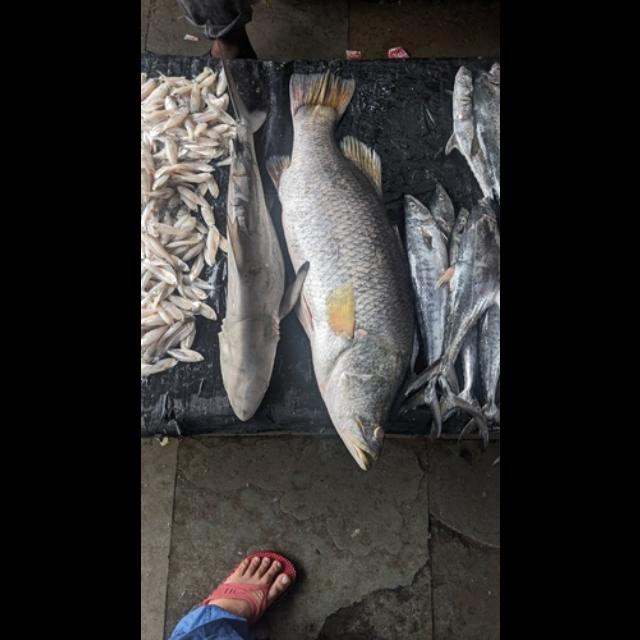Seabass: (264, 68, 416, 470)
